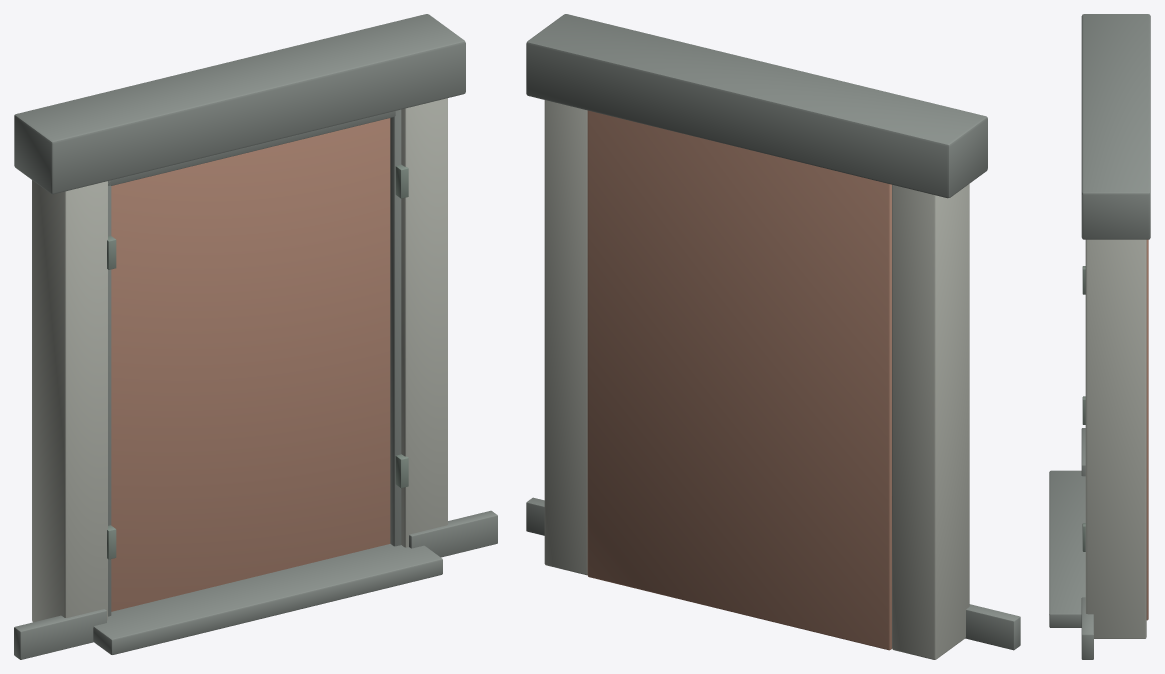
The model's file is CTCC_ENV_B1SealedDoorE05b.fbx.
3 views of the same model, side by side, from view 1: azimuth 30°, elevation 25°; view 2: azimuth 150°, elevation 25°; view 3: azimuth 270°, elevation 25° (orthographic). The views are drawn at different scales.
Parts seen in each view (by area): view 1: CTCC_ENV_B1SealedDoorE05b_LOD0; view 2: CTCC_ENV_B1SealedDoorE05b_LOD0; view 3: CTCC_ENV_B1SealedDoorE05b_LOD0.
Boxes of the visible parts, x1=… form: CTCC_ENV_B1SealedDoorE05b_LOD0: x1=14, y1=14, x2=497, y2=659; CTCC_ENV_B1SealedDoorE05b_LOD0: x1=526, y1=14, x2=1020, y2=659; CTCC_ENV_B1SealedDoorE05b_LOD0: x1=1049, y1=14, x2=1150, y2=659.
Size of what is drawn, in the model's own units: 2.42 by 2.47 by 0.5.
